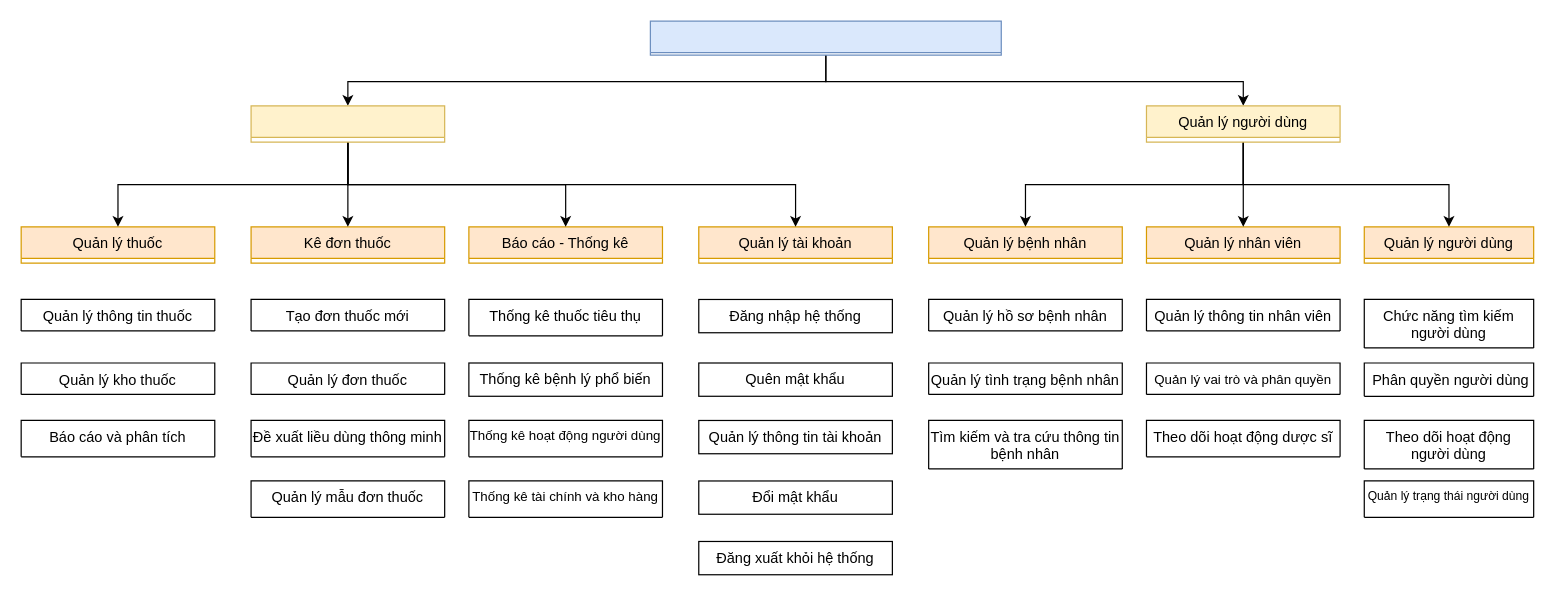
Image size: 1555x597. Some labels were removed from this diagram. The centre of each missing label's shape, as x and y in pixels:
Quy trình nghiệp vụ: point (347, 123)
Quản lý CSDL hiệu thuốc, tư vấn kê đơn chữa trị: point (825, 37)
